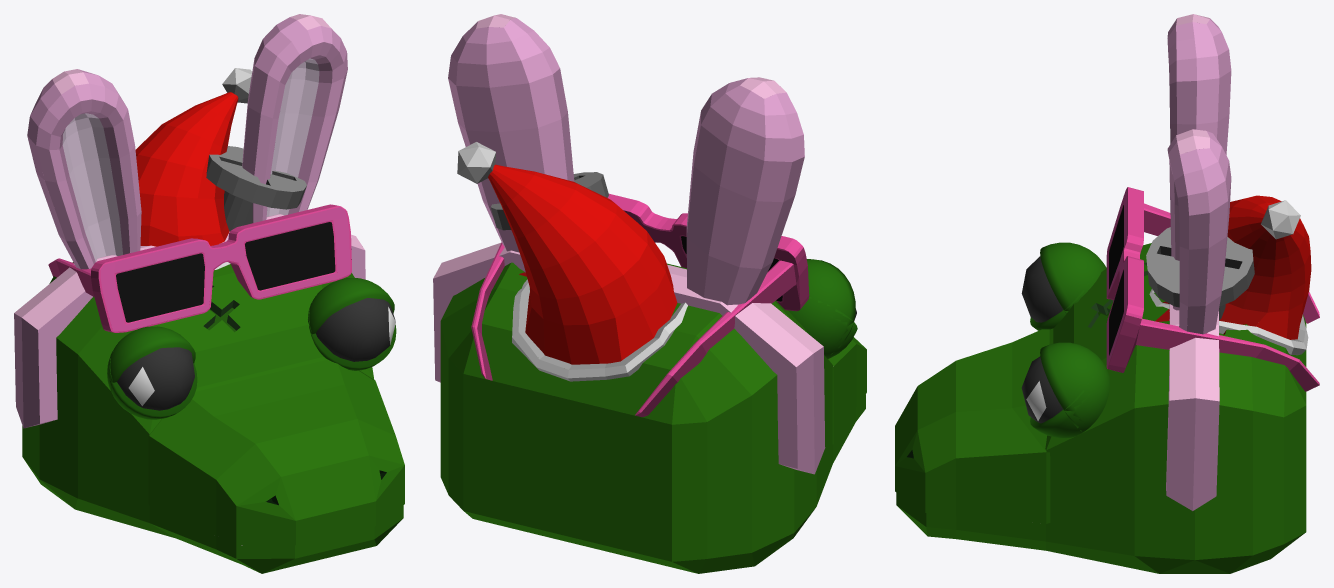
File: snake.glb
3 renders of one model, left to right at view 1: azimuth 30°, elevation 25°; view 2: azimuth 150°, elevation 25°; view 3: azimuth 270°, elevation 25°, orthographic. The views are drawn at different scales.
Visible parts, largest first — view 1: snakemouth, bunny, snakeBase, sunglasses, Frankenstein, hat, hairband, eyeBlackL, eyeBlackR, nailHead, eyelidTopL, eyelidTopR (+4 smaller); view 2: snakeBase, bunny, hat, Frankenstein, hairband, sunglasses, hatWhite, eyelidTopL, snakemouth, pompom, eyelidBtmL, nailHead; view 3: snakeBase, snakemouth, bunny, Frankenstein, sunglasses, hairband, hat, eyelidTopR, nailHead, eyelidTopL, eyeBlackL, eyeBlackR (+3 smaller).
Part boxes in pixels (<box>): snakemouth: <box>148,359,404,545</box>; bunny: <box>27,14,347,269</box>; snakeBase: <box>22,338,403,573</box>; sunglasses: <box>48,204,351,332</box>; Frankenstein: <box>49,262,374,434</box>; hat: <box>135,92,238,246</box>; hairband: <box>14,214,365,428</box>; eyeBlackL: <box>316,298,395,361</box>; eyeBlackR: <box>117,347,194,410</box>; nailHead: <box>206,146,306,209</box>; eyelidTopL: <box>107,326,195,394</box>; eyelidTopR: <box>308,278,394,335</box>; snakeBase: <box>440,322,865,573</box>; bunny: <box>448,14,804,305</box>; hat: <box>488,164,677,364</box>; Frankenstein: <box>440,262,832,424</box>; hairband: <box>433,243,825,474</box>; sunglasses: <box>471,193,809,416</box>; hatWhite: <box>512,279,687,381</box>; eyelidTopL: <box>788,259,855,354</box>; snakemouth: <box>828,337,866,444</box>; pompom: <box>457,142,495,183</box>; eyelidBtmL: <box>793,297,857,358</box>; nailHead: <box>490,172,608,230</box>; snakeBase: <box>896,404,1306,573</box>; snakemouth: <box>895,329,1050,523</box>; bunny: <box>1167,14,1231,334</box>; Frankenstein: <box>1046,243,1306,449</box>; sunglasses: <box>1106,187,1319,391</box>; hairband: <box>1166,304,1219,510</box>; hat: <box>1219,195,1311,339</box>; eyelidTopR: <box>1040,342,1109,431</box>; nailHead: <box>1146,227,1254,307</box>; eyelidTopL: <box>1040,242,1106,313</box>; eyeBlackL: <box>1021,356,1063,423</box>; eyeBlackR: <box>1021,256,1063,322</box>.
Bounding box in the file's own units: 0.9582 × 1.15 × 1.03.
